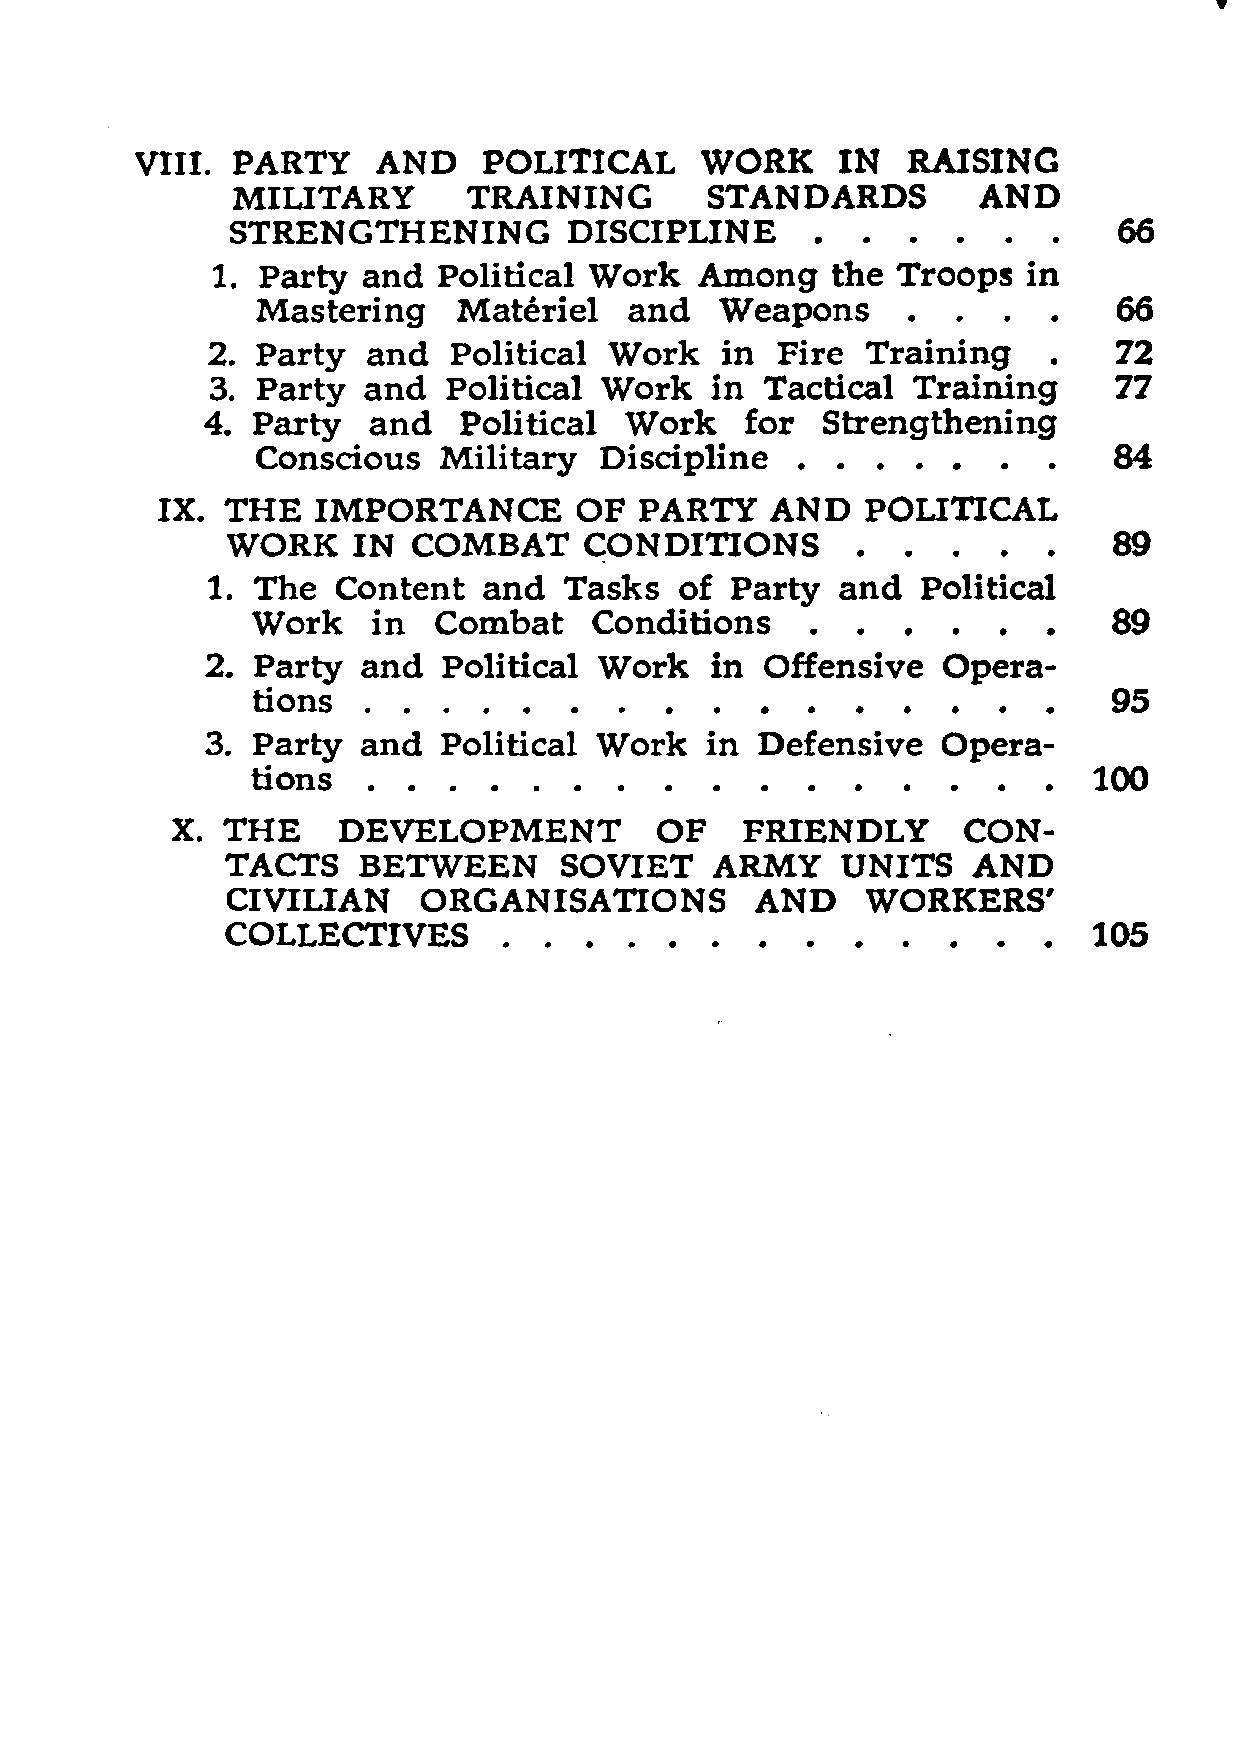TOC_chapter: (127, 141, 1070, 254), (205, 644, 1060, 723), (201, 729, 1057, 803), (153, 493, 1063, 560), (205, 569, 1060, 639), (201, 411, 1068, 476), (212, 260, 1067, 323), (209, 336, 1066, 372), (203, 372, 1056, 404)
TOC_pagenumber: (170, 807, 1057, 962), (1086, 914, 1161, 957), (1088, 760, 1157, 797), (1111, 208, 1161, 250), (1102, 523, 1155, 561), (1104, 679, 1155, 717), (1108, 370, 1157, 403), (1107, 603, 1151, 637), (1114, 289, 1157, 323), (1111, 439, 1155, 472), (1114, 336, 1157, 368)
